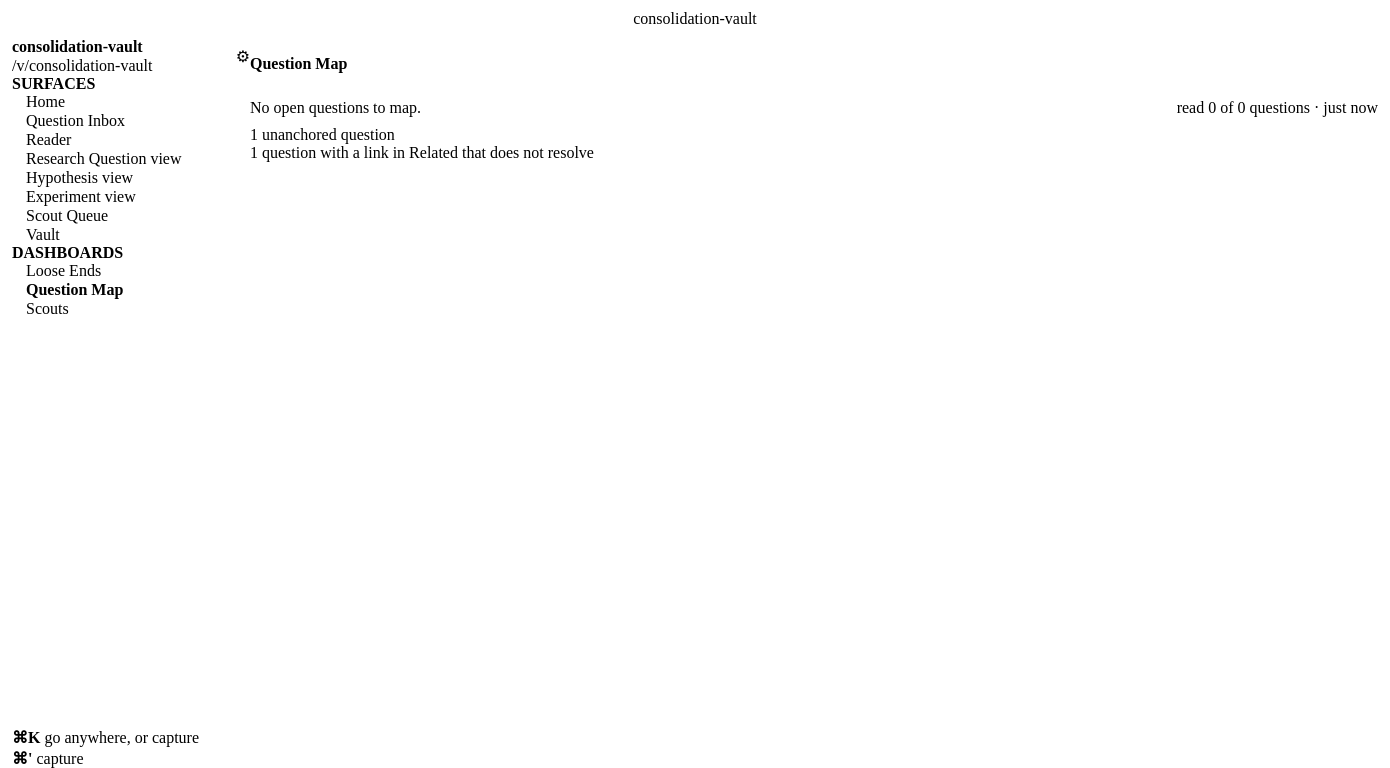
it: what the Map could not read › marks an unresolved and an ambiguous Related on the row, each in its own words, and does not count the row as plainly unanchored
The image size is (1390, 768).
Expected: the button "1 unanchored question" is shown, top-left (250, 126), bottom-right (395, 144)
Click the button "1 question with a link in Related that does not resolve" at (422, 153), box top-left (250, 144), bottom-right (594, 162)
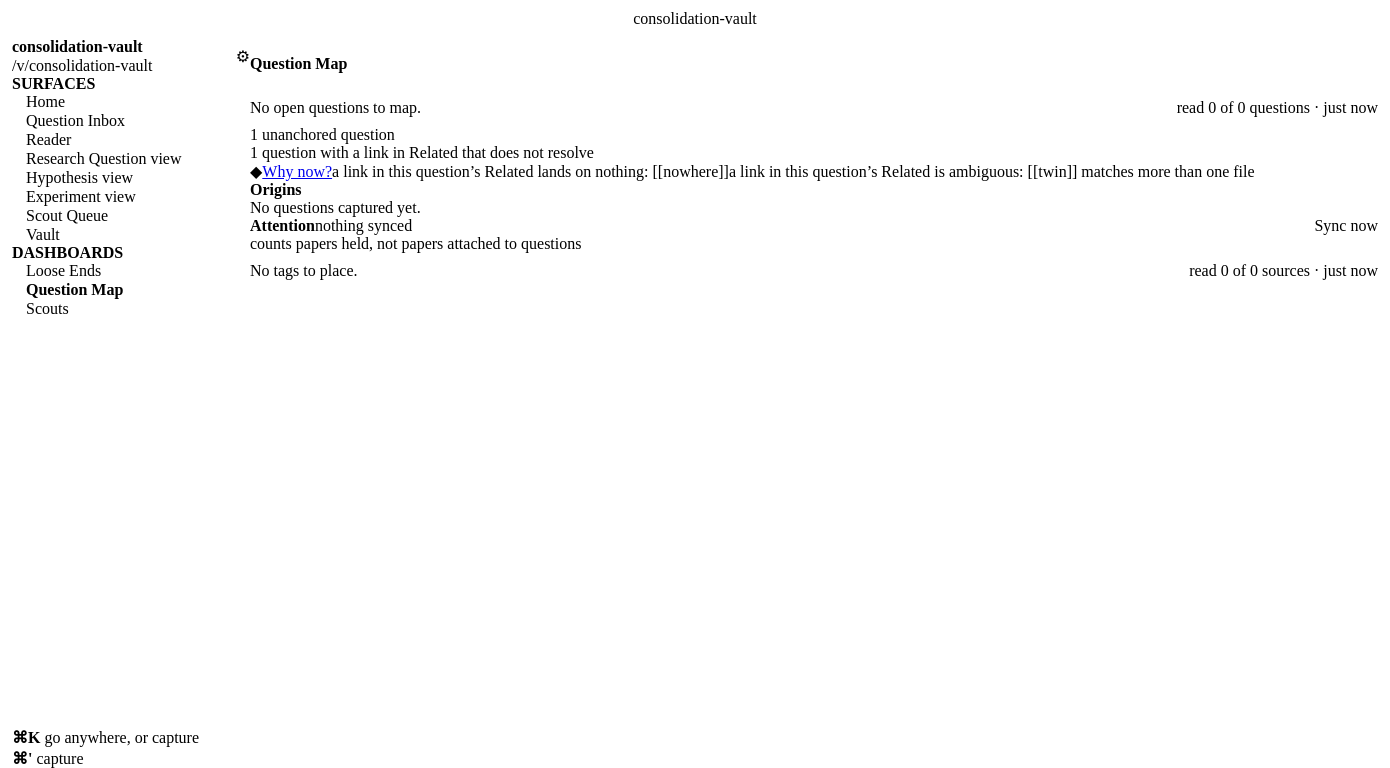
Now the element that starts with "1 unanchored question" shows "Why now?", box top-left (262, 163), bottom-right (332, 180)
Now the element that starts with "1 unanchored question" shows "a link in this question’s Related lands on nothing", box top-left (332, 163), bottom-right (729, 180)
Now the element that starts with "1 unanchored question" shows "a link in this question’s Related is ambiguous: [ [twin]]", box top-left (729, 163), bottom-right (1255, 180)
